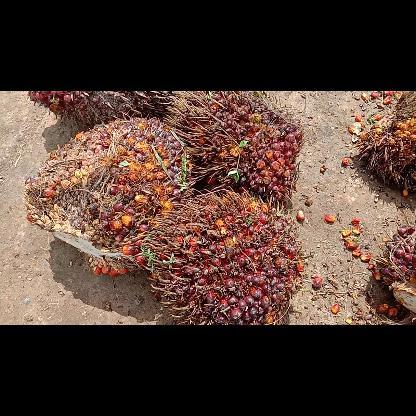TBS masak: (25, 116, 195, 276), (146, 186, 304, 324), (165, 91, 301, 199), (29, 90, 167, 128)
